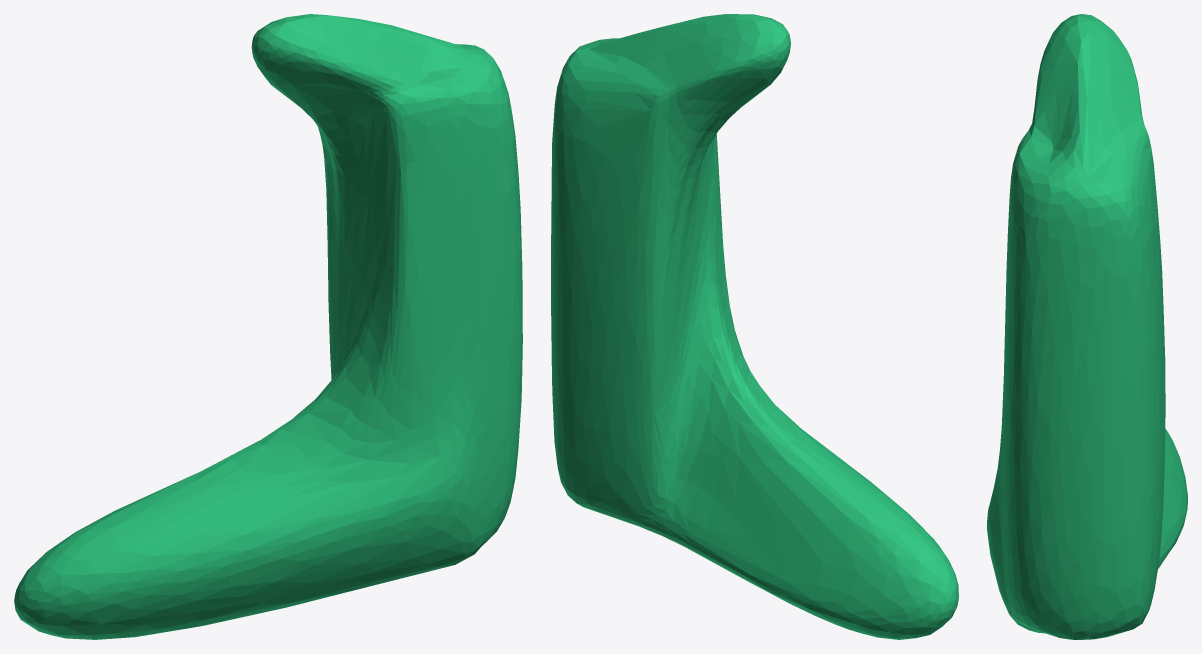
The picture shows the model from 3 angles, left to right: view 1: azimuth 30°, elevation 25°; view 2: azimuth 150°, elevation 25°; view 3: azimuth 270°, elevation 25°; orthographic projection. The views are drawn at different scales.
Visible parts, largest first — view 1: 306_Cube.1253; view 2: 306_Cube.1253; view 3: 306_Cube.1253.
Boxes of the visible parts, left/top/right/bottom form: 306_Cube.1253: left=14, top=14, right=522, bottom=639; 306_Cube.1253: left=551, top=14, right=958, bottom=639; 306_Cube.1253: left=987, top=14, right=1187, bottom=639.
Bounding box in the file's own units: 12.31 × 15.44 × 4.83.
